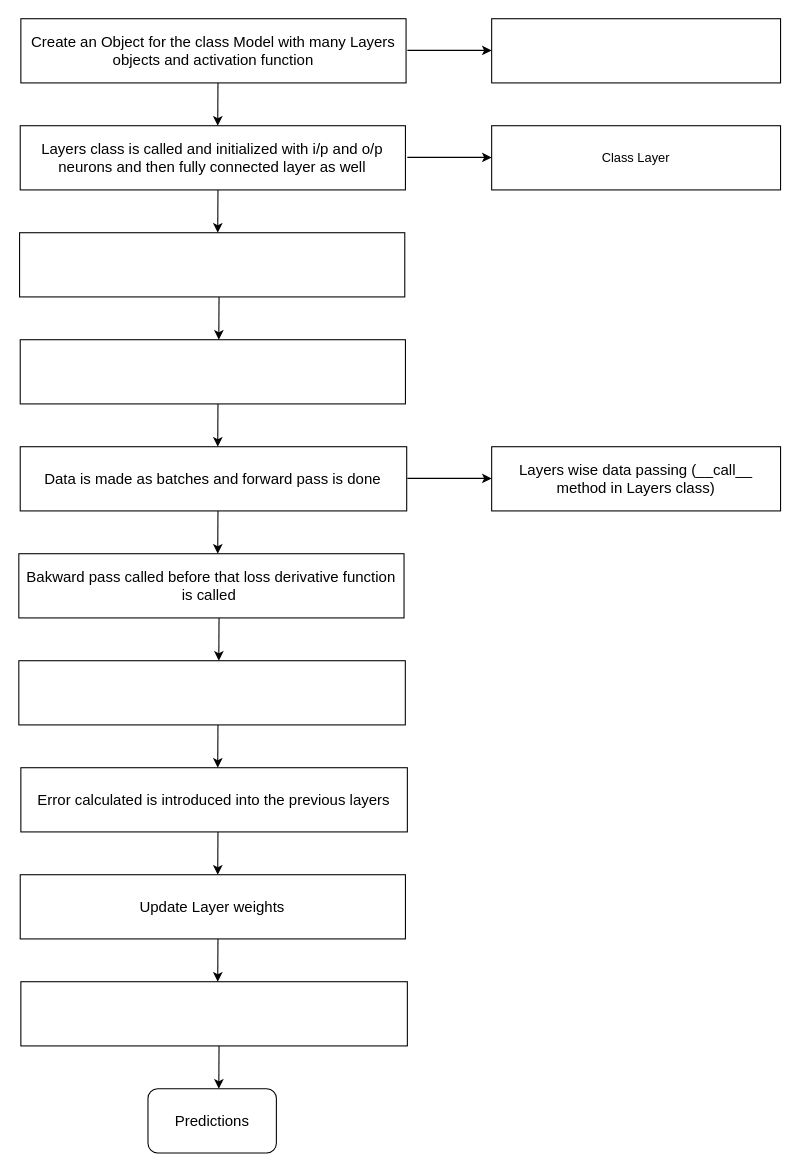
Some shapes in this 799 by 1172 pixel diagram are drawn without their labels. Here are the shapes that lost their labels. From the top down, the centre of each, then its label:
At (x=636, y=50): "Class Model".
At (x=212, y=264): "Model gets initialization with layers".
At (x=212, y=371): "Call method obj.fit() by passing the data,epochs,batch_size, loss function".
At (x=211, y=692): "Each Layer traveresed from last [::-1]".
At (x=213, y=1013): "Reducing Learning rate".
